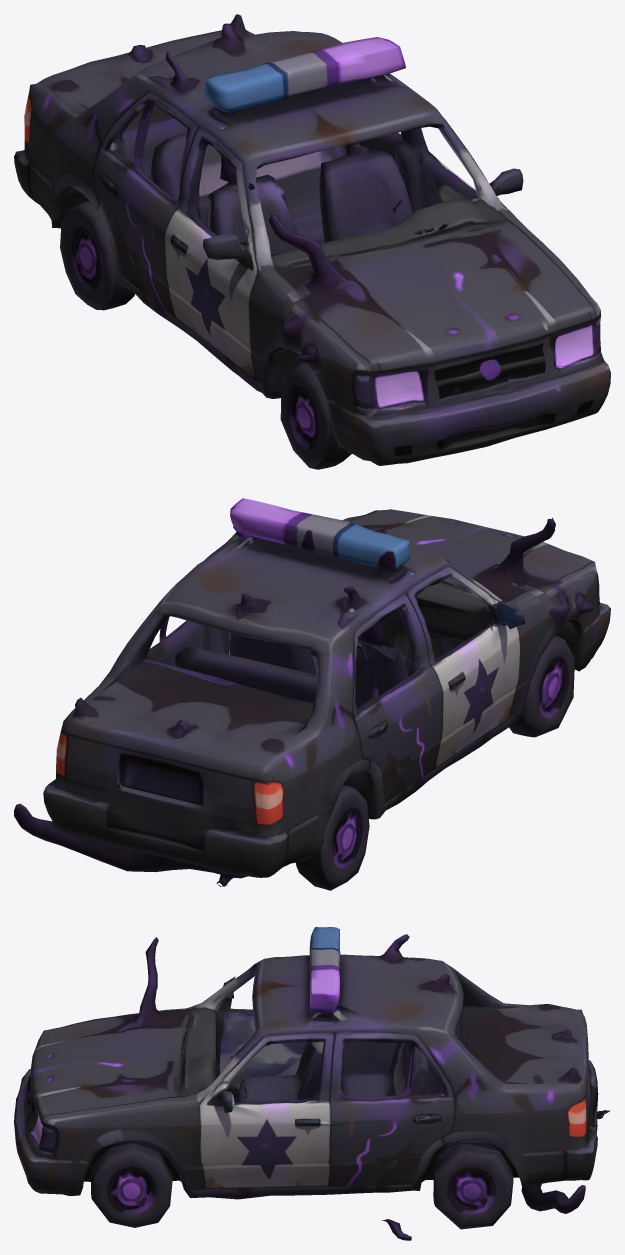
The model's file is SM_Vehicle_DemonicPoliceCar_01.fbx.
The picture shows the model from 3 angles, top to bottom: view 1: azimuth 30°, elevation 25°; view 2: azimuth 150°, elevation 25°; view 3: azimuth 270°, elevation 25°; orthographic projection. The views are drawn at different scales.
Parts seen in each view (by area): view 1: SM_Vehicle_DemonicPoliceCar_01; view 2: SM_Vehicle_DemonicPoliceCar_01; view 3: SM_Vehicle_DemonicPoliceCar_01.
Boxes of the visible parts, bbox=[...] form: SM_Vehicle_DemonicPoliceCar_01: bbox=[14, 14, 610, 469]; SM_Vehicle_DemonicPoliceCar_01: bbox=[14, 498, 610, 890]; SM_Vehicle_DemonicPoliceCar_01: bbox=[14, 927, 610, 1240].
Size of the model in its own units: 0.478 by 0.4157 by 0.994.
1 material, 1 textured.
